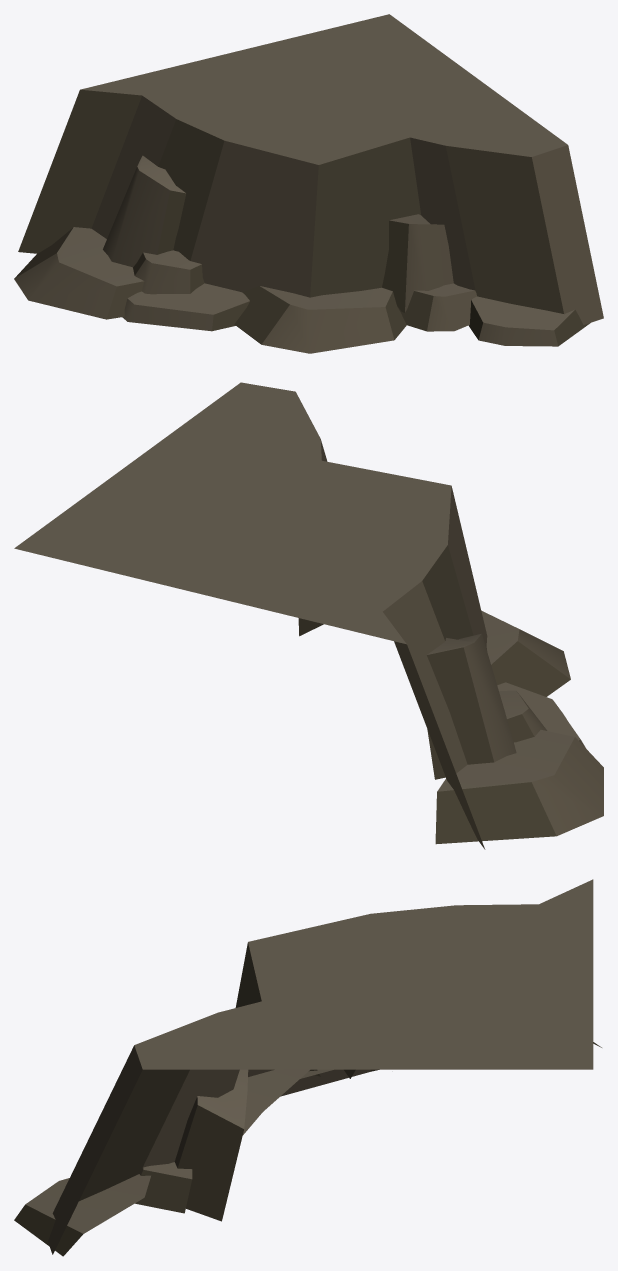
Rendered from SF_Env_RockEdge_Corner_05.fbx.
3 views of the same model, one above another, from view 1: azimuth 30°, elevation 25°; view 2: azimuth 150°, elevation 25°; view 3: azimuth 270°, elevation 25° (orthographic). The views are drawn at different scales.
Parts seen in each view (by area): view 1: SF_Env_RockEdge_Corner_05; view 2: SF_Env_RockEdge_Corner_05; view 3: SF_Env_RockEdge_Corner_05.
Boxes of the visible parts, x1=… form: SF_Env_RockEdge_Corner_05: x1=14, y1=14, x2=603, y2=353; SF_Env_RockEdge_Corner_05: x1=14, y1=382, x2=603, y2=849; SF_Env_RockEdge_Corner_05: x1=14, y1=879, x2=601, y2=1256.
Bounding box in the file's own units: 16.79 × 6.11 × 16.37.
